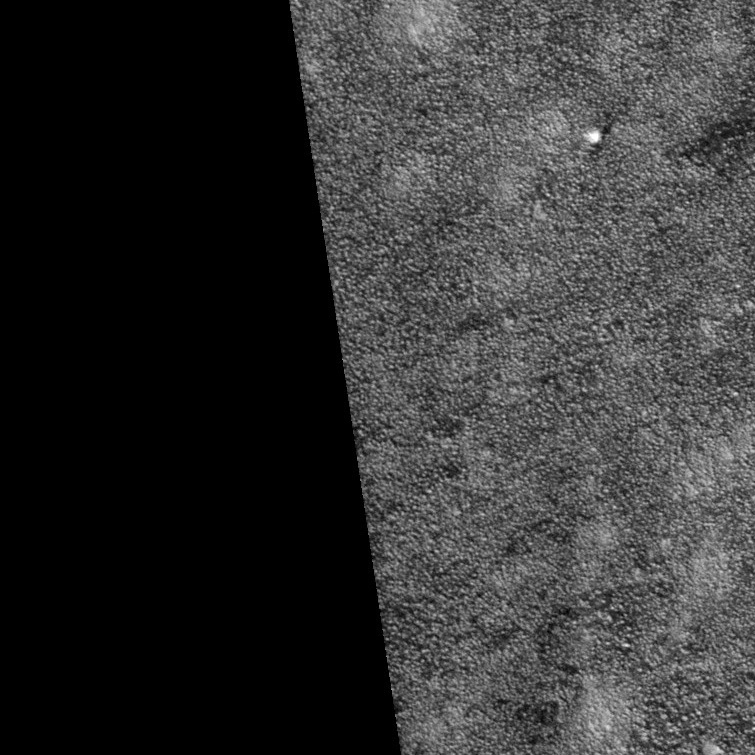dust_devil: (587, 114, 614, 146)
